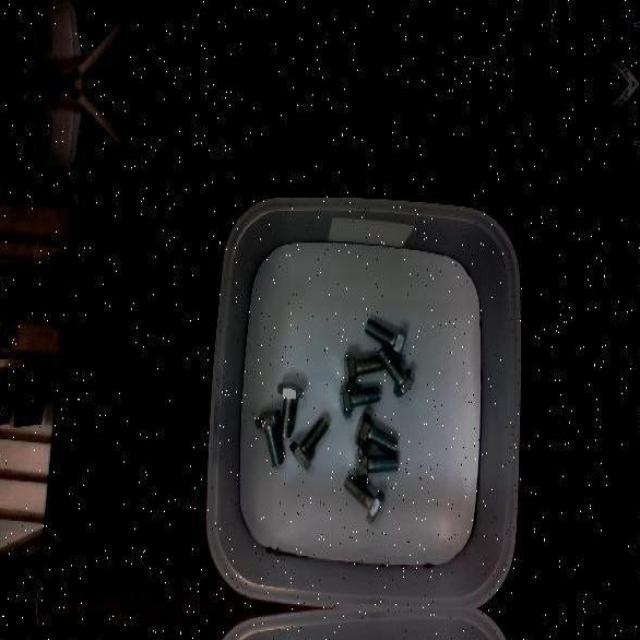screw: (289, 418, 330, 471), (343, 474, 384, 525), (377, 345, 414, 398), (355, 411, 397, 454), (255, 408, 285, 466), (356, 445, 399, 481), (276, 381, 302, 436), (339, 384, 380, 418)
